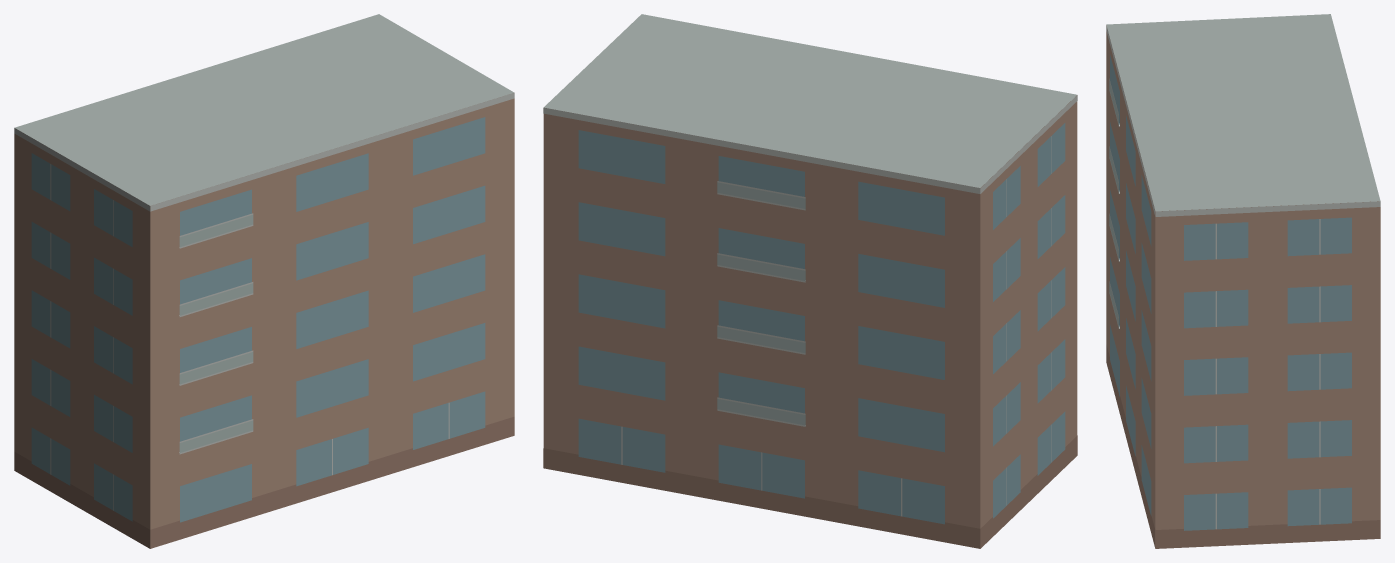
Rendered from survey-upis-32962332.glb.
3 views of the same model, side by side, from view 1: azimuth 30°, elevation 25°; view 2: azimuth 150°, elevation 25°; view 3: azimuth 270°, elevation 25° (orthographic). The views are drawn at different scales.
Parts seen in each view (by area): view 1: survey-upis-32962332.tmp; view 2: survey-upis-32962332.tmp; view 3: survey-upis-32962332.tmp.
Part boxes in pixels (box(x1,y1,x2,y2)): survey-upis-32962332.tmp: box(14, 14, 514, 548); survey-upis-32962332.tmp: box(543, 14, 1077, 548); survey-upis-32962332.tmp: box(1106, 14, 1380, 548).
Size of the model in its own units: 18.2 by 14.5 by 10.69.
